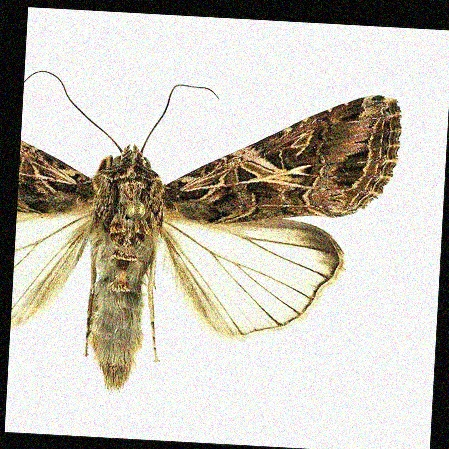Spodoptera litura: (15, 79, 396, 404)
